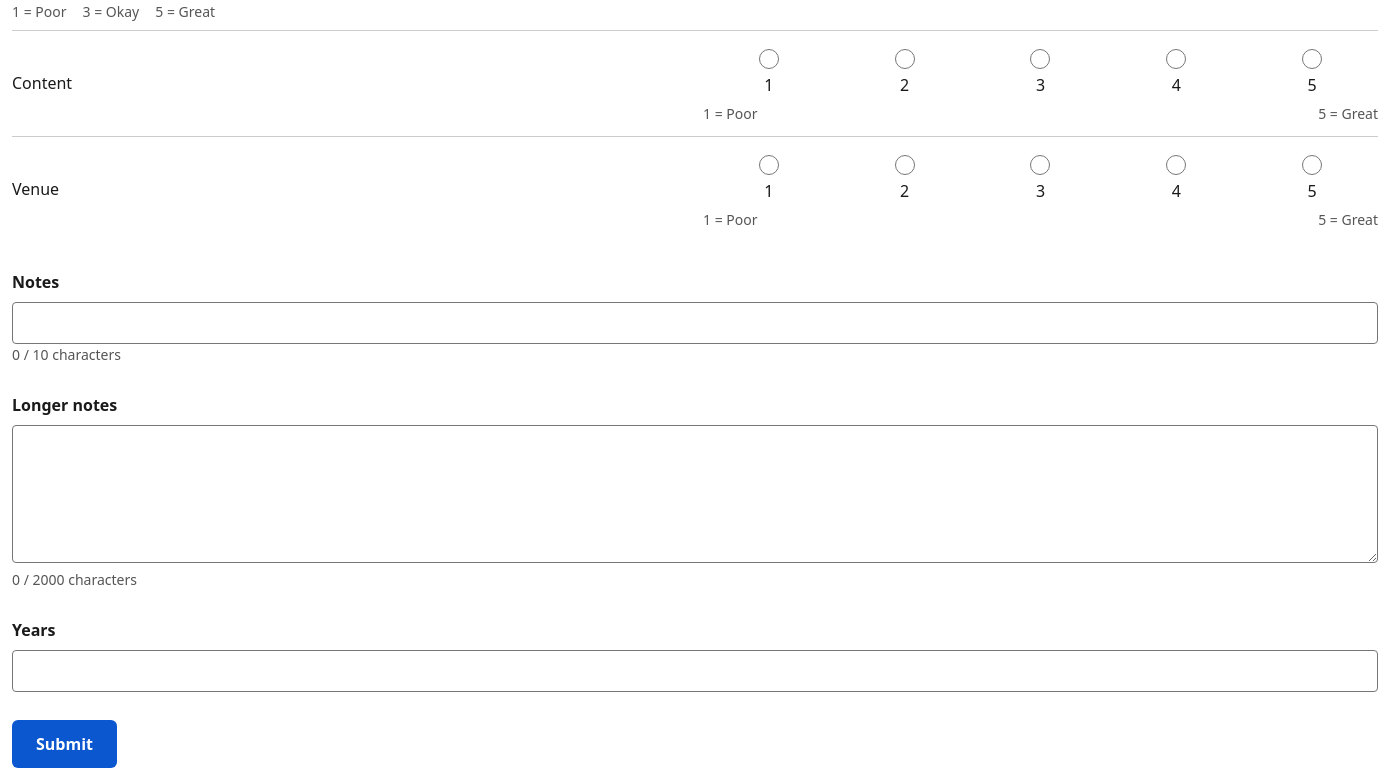
SurveyForm › blocks submit with per-question errors and focuses the first
(page scrolled)
Click the button "Submit": (64, 744) left=12, top=720, right=117, bottom=767
(page scrolled)
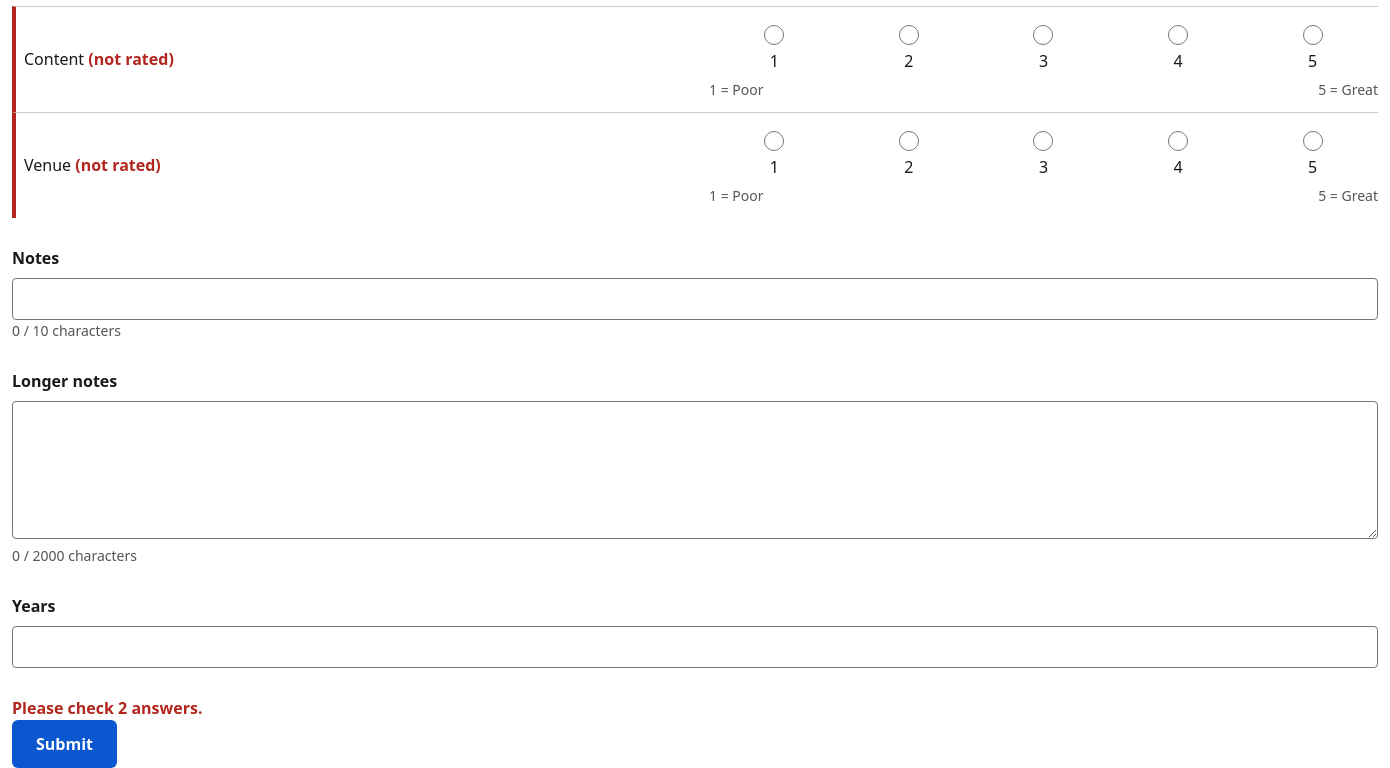
Expected: the message shows "2 answers", left=12, top=697, right=202, bottom=719
